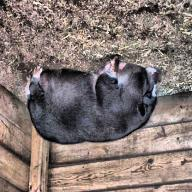boar: (26, 56, 161, 145)
